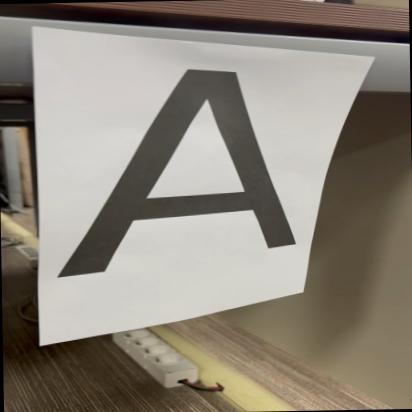seat: (40, 41, 314, 308)
